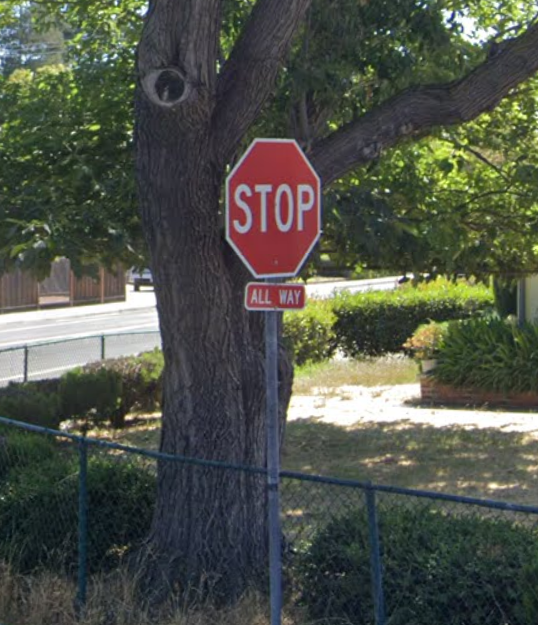stop_sign: (227, 140, 319, 276)
